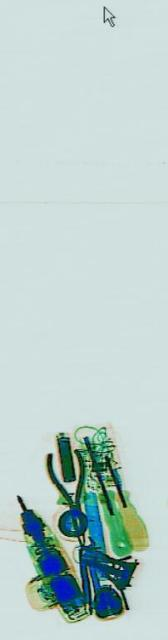Pliers: (44, 398, 92, 578)
Wrench: (79, 520, 103, 618)
